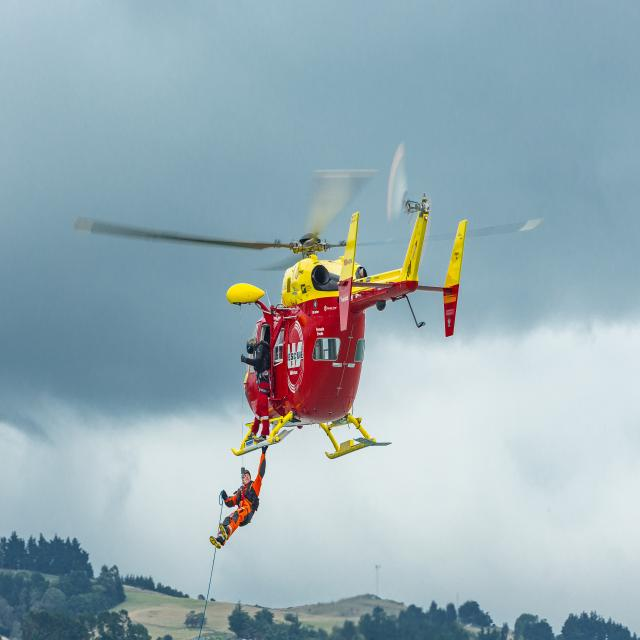helicopter: (216, 165, 492, 469)
